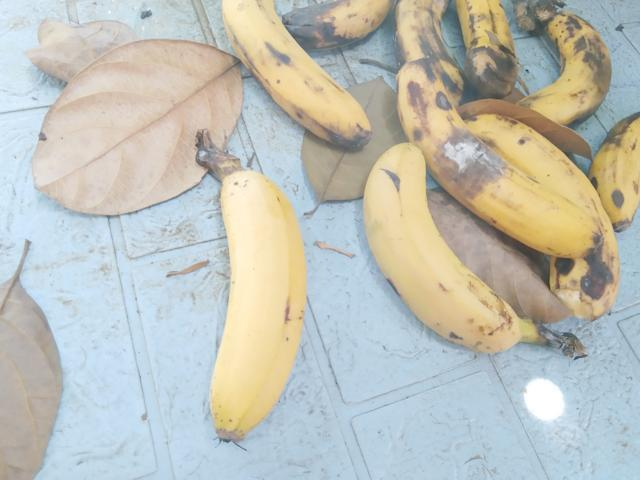freshripe: (170, 167, 327, 460)
ripe: (359, 147, 521, 350), (192, 0, 366, 144)
rotten: (390, 61, 603, 267)
